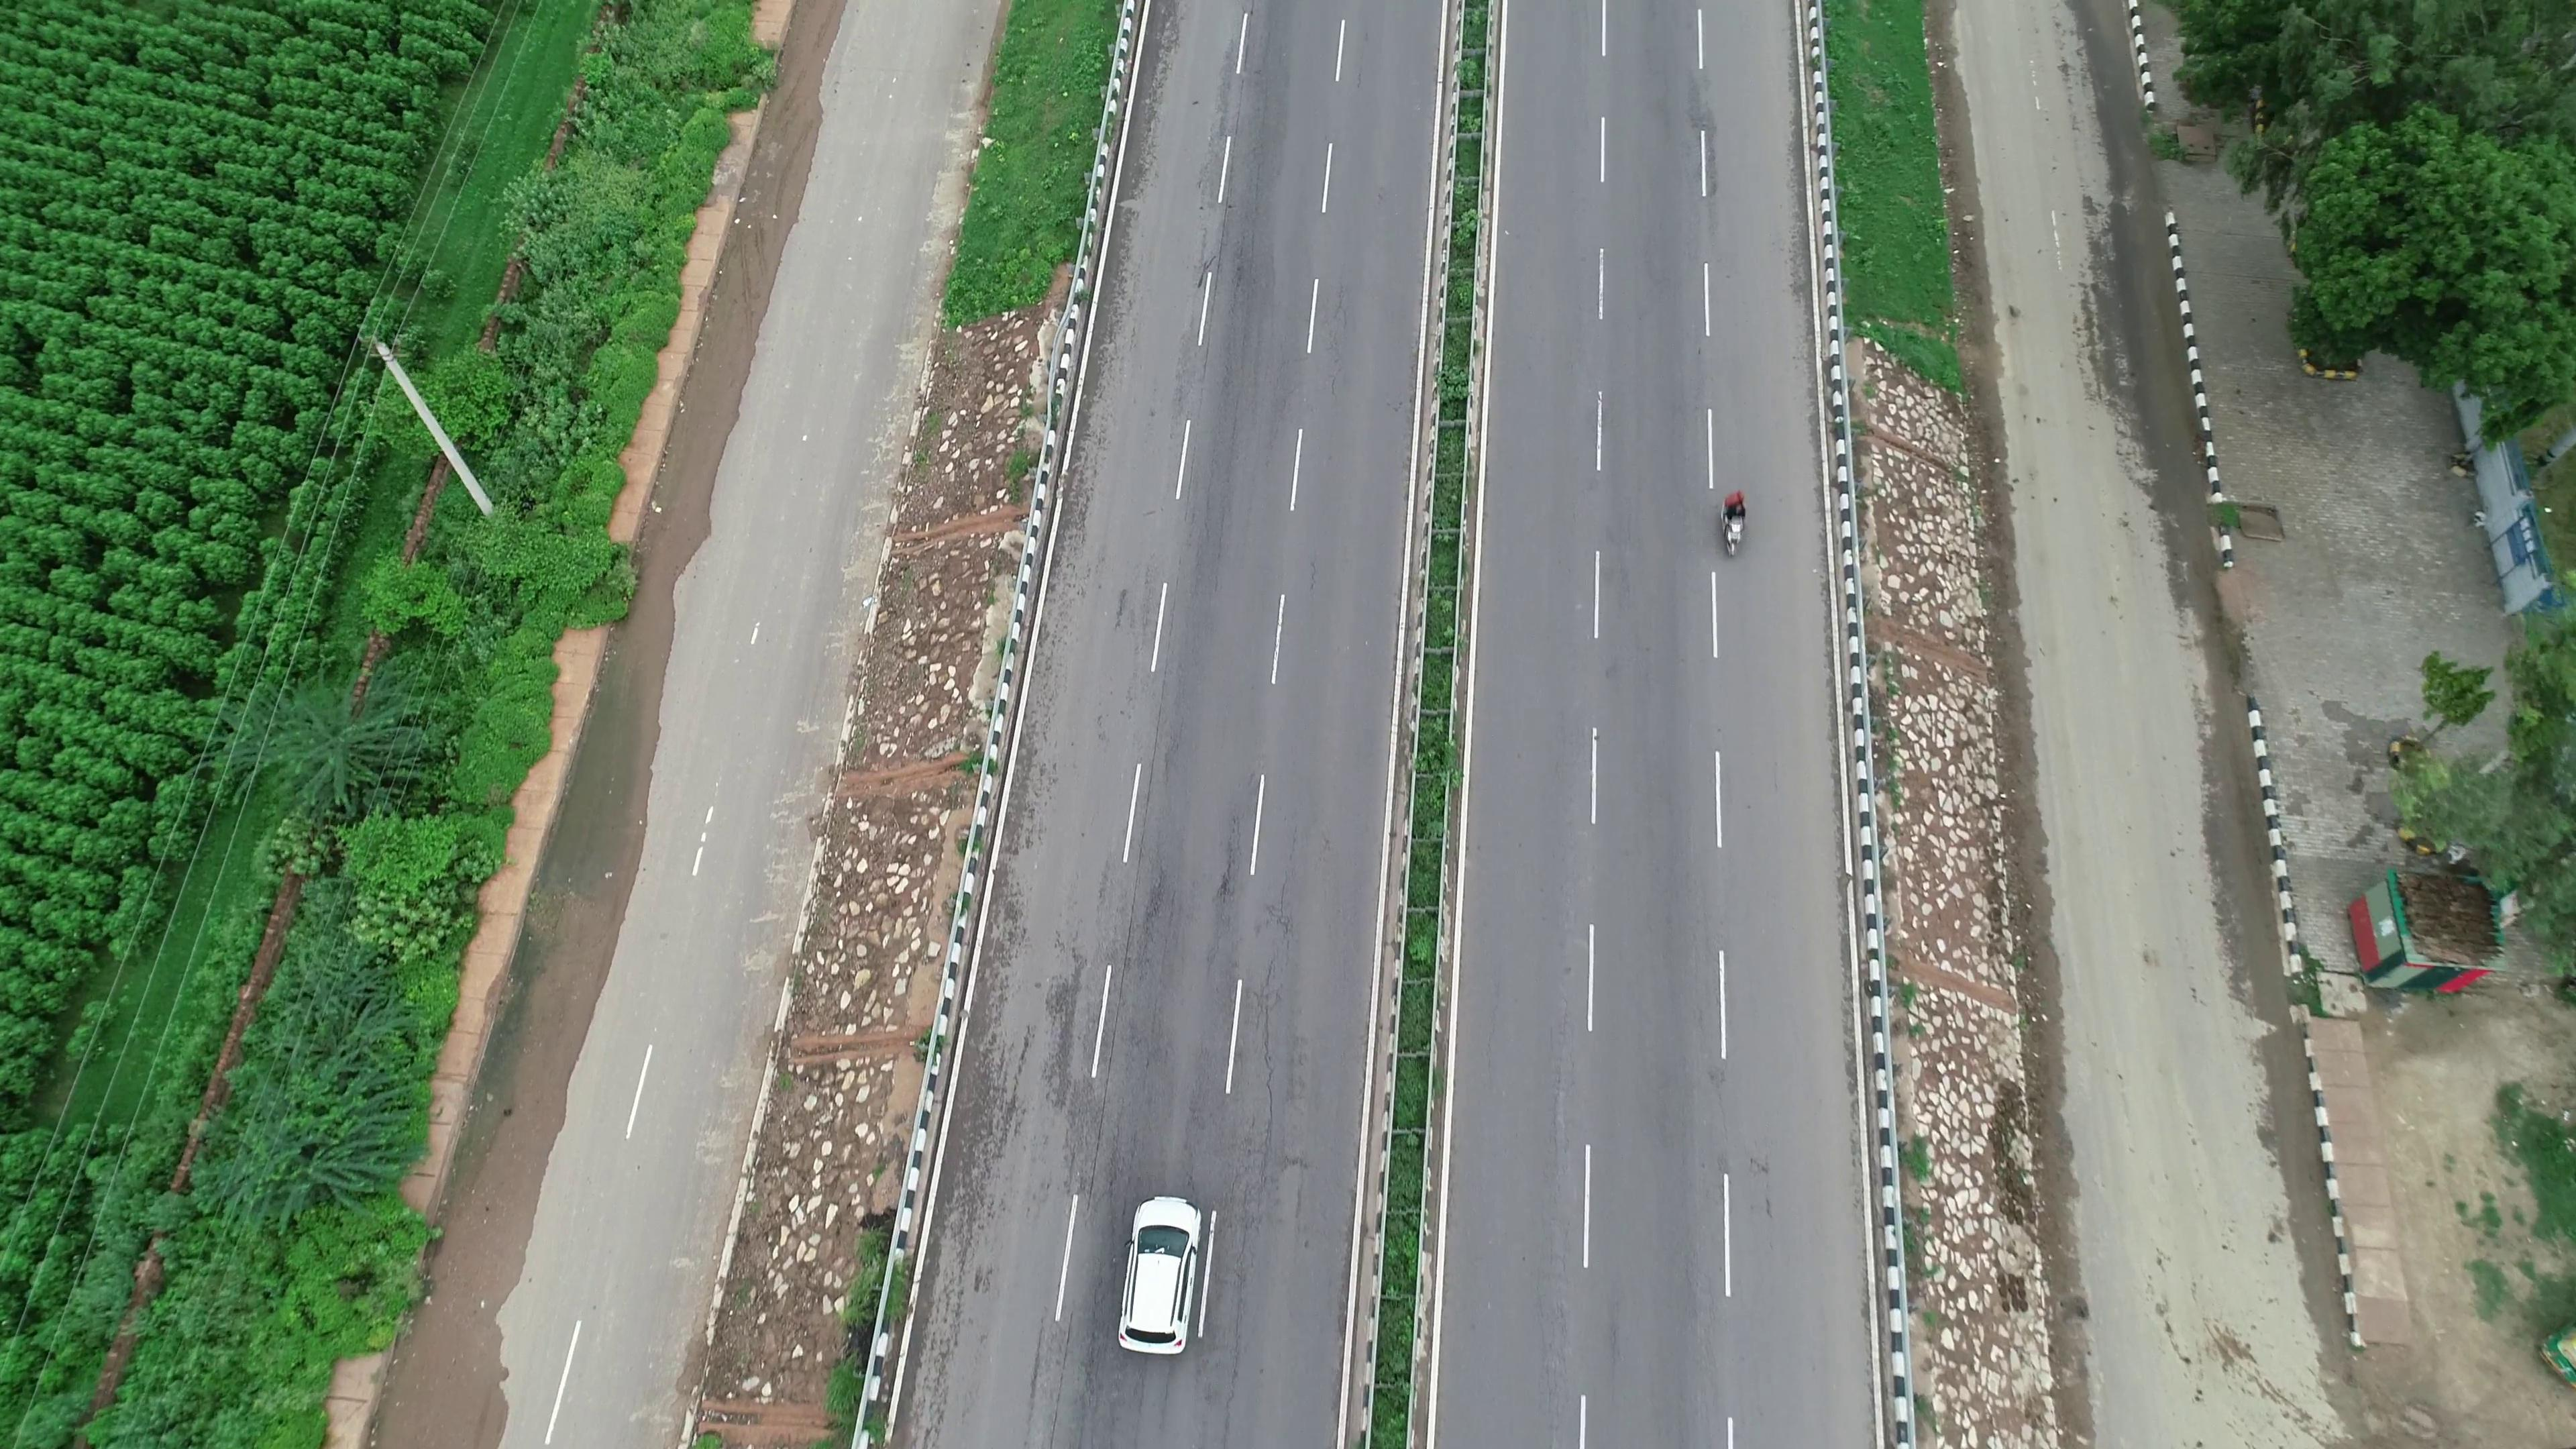Longitudinal_cracks: (1214, 1148, 1279, 1438), (1251, 872, 1295, 1145)
